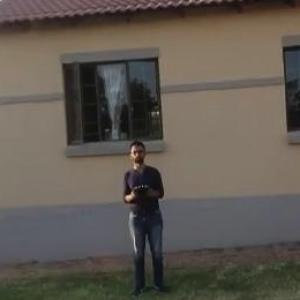follow: (118, 126, 170, 299)
